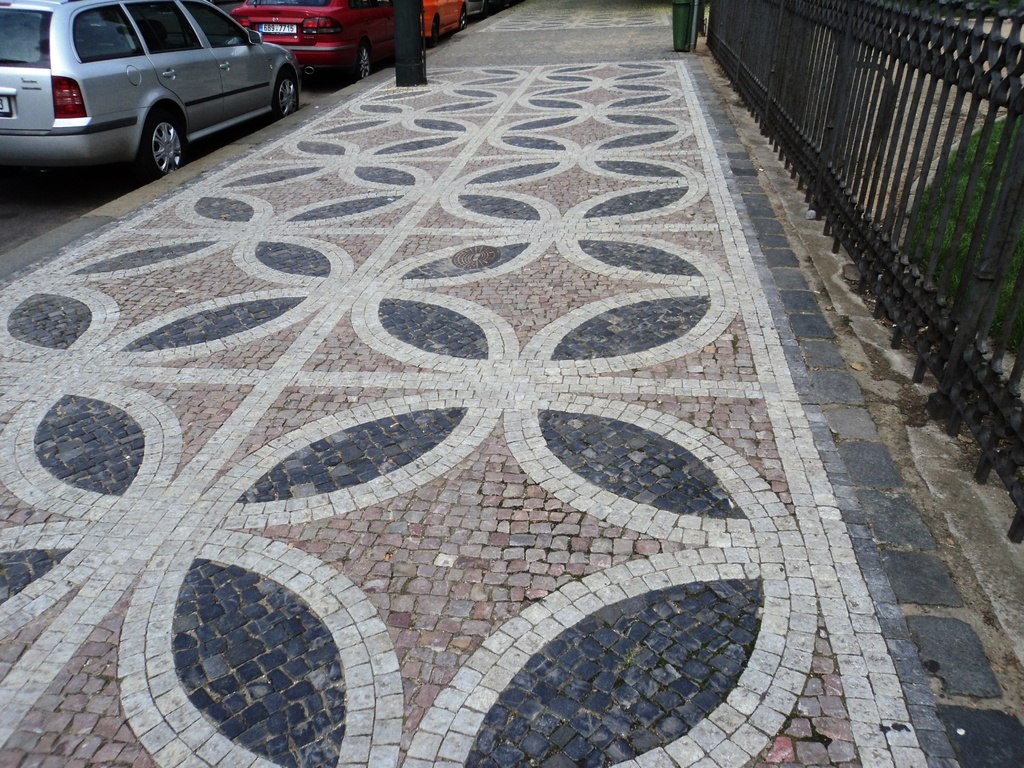Car: (0, 0, 302, 181), (228, 0, 401, 78), (420, 0, 464, 40)
